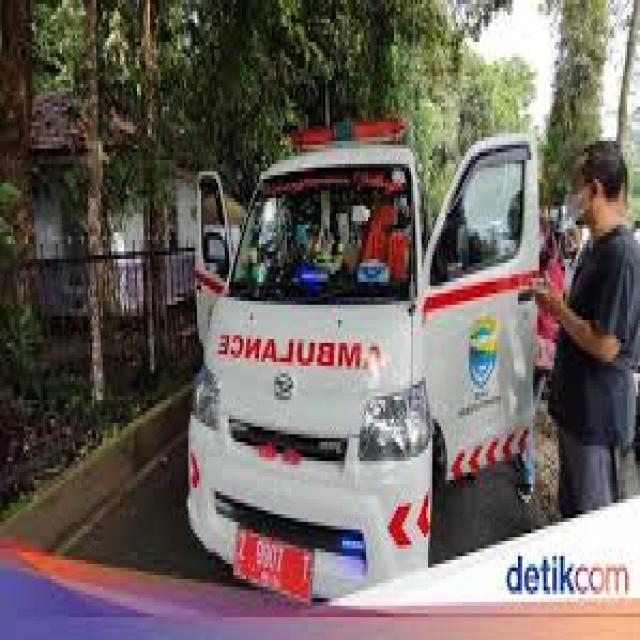emergency-vehicle: (188, 130, 428, 598)
